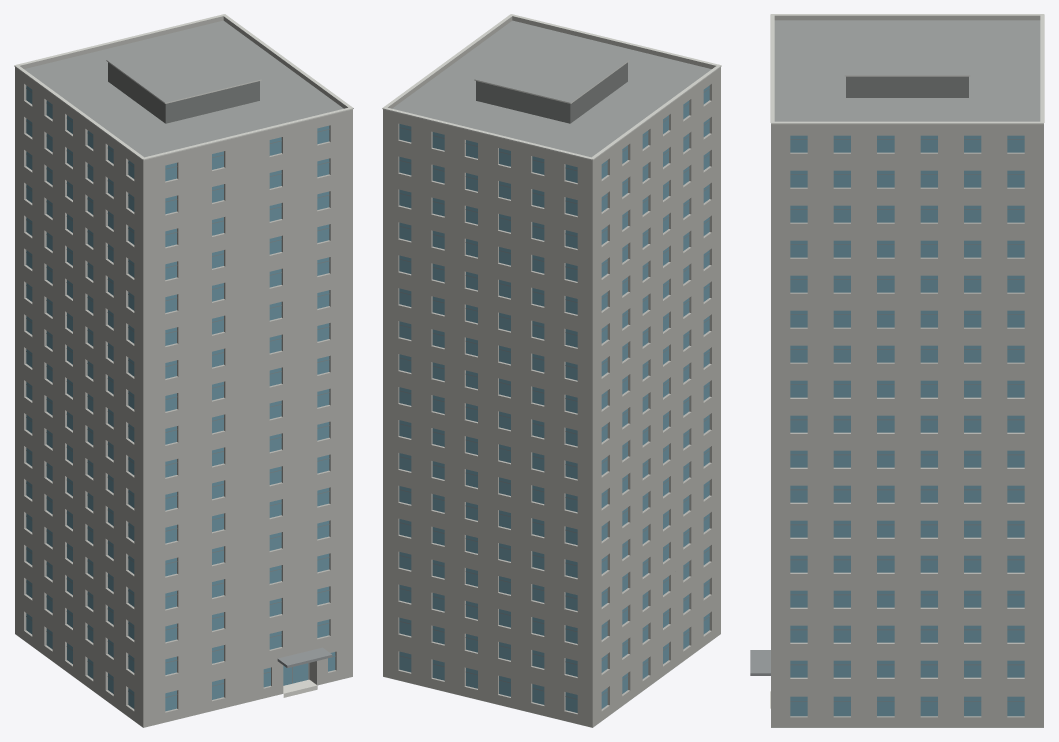
3 views of the same model, side by side, from view 1: azimuth 30°, elevation 25°; view 2: azimuth 150°, elevation 25°; view 3: azimuth 270°, elevation 25° (orthographic). The views are drawn at different scales.
Parts seen in each view (by area): view 1: unist-batch-b304__parapet, b304__glass, b304__trim, b304__frame, b304__canopy; view 2: unist-batch-b304__parapet, b304__glass, b304__frame, b304__trim; view 3: unist-batch-b304__parapet, b304__glass, b304__trim, b304__frame, b304__canopy.
Part boxes in pixels (<box>): unist-batch-b304__parapet: <box>15,16,352,727</box>; b304__glass: <box>26,85,335,711</box>; b304__trim: <box>14,14,353,160</box>; b304__frame: <box>26,88,335,697</box>; b304__canopy: <box>277,647,332,667</box>; unist-batch-b304__parapet: <box>383,16,720,727</box>; b304__glass: <box>399,85,709,712</box>; b304__frame: <box>399,88,709,699</box>; b304__trim: <box>382,14,721,160</box>; unist-batch-b304__parapet: <box>771,15,1043,727</box>; b304__glass: <box>790,135,1024,716</box>; b304__trim: <box>770,14,1044,124</box>; b304__frame: <box>790,139,1024,701</box>; b304__canopy: <box>750,650,770,675</box>.
Bounding box in the file's own units: 22.45 × 60 × 25.52.
